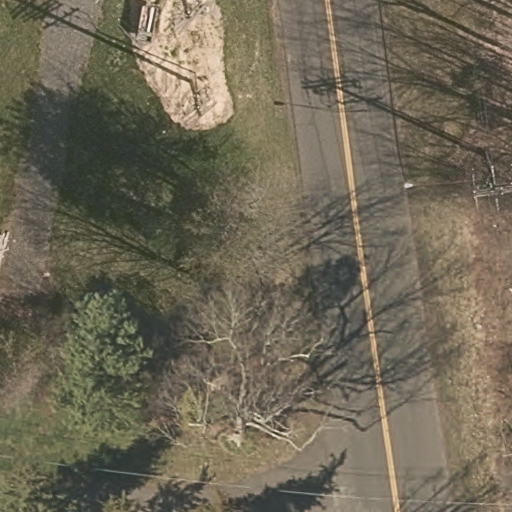DT: (467, 163, 509, 212)
